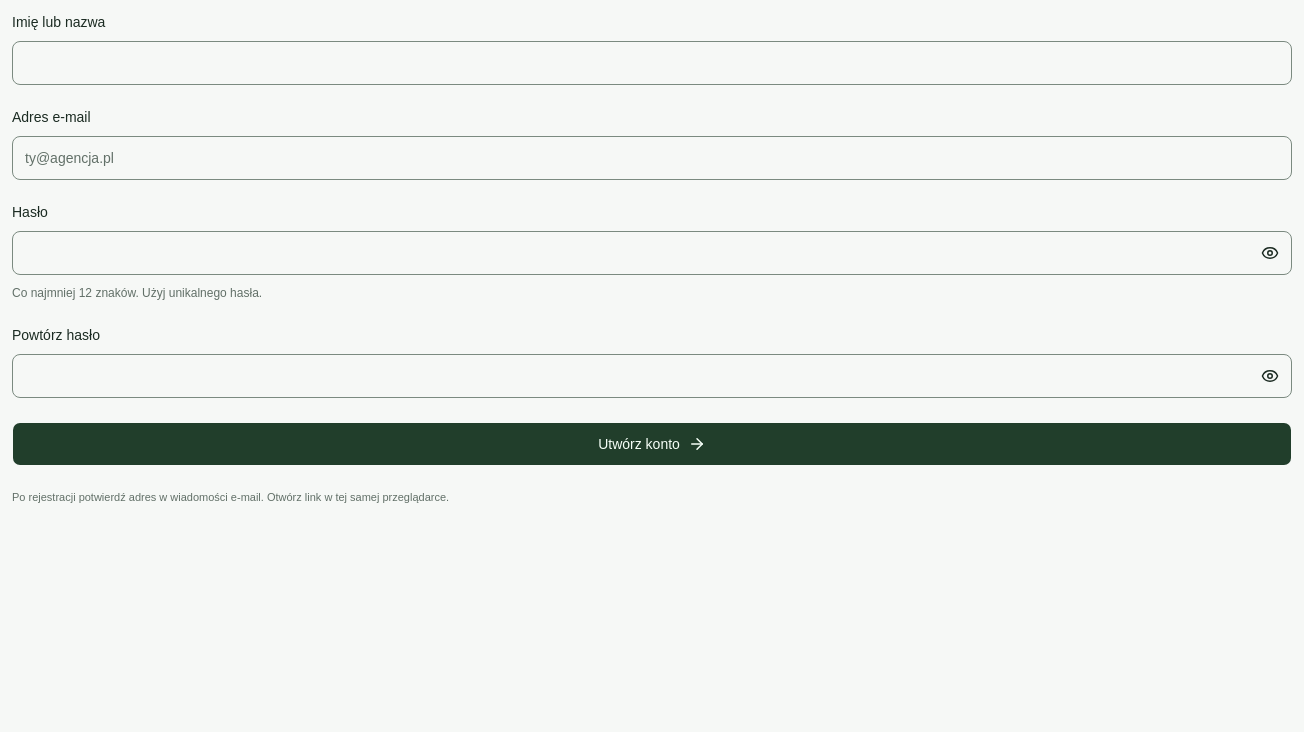
email registration form › hides passwords and toggles the two fields independently
Type " Test Person " into the field labelled "Imię lub nazwa" at [652, 63], box [12,41,1292,85]
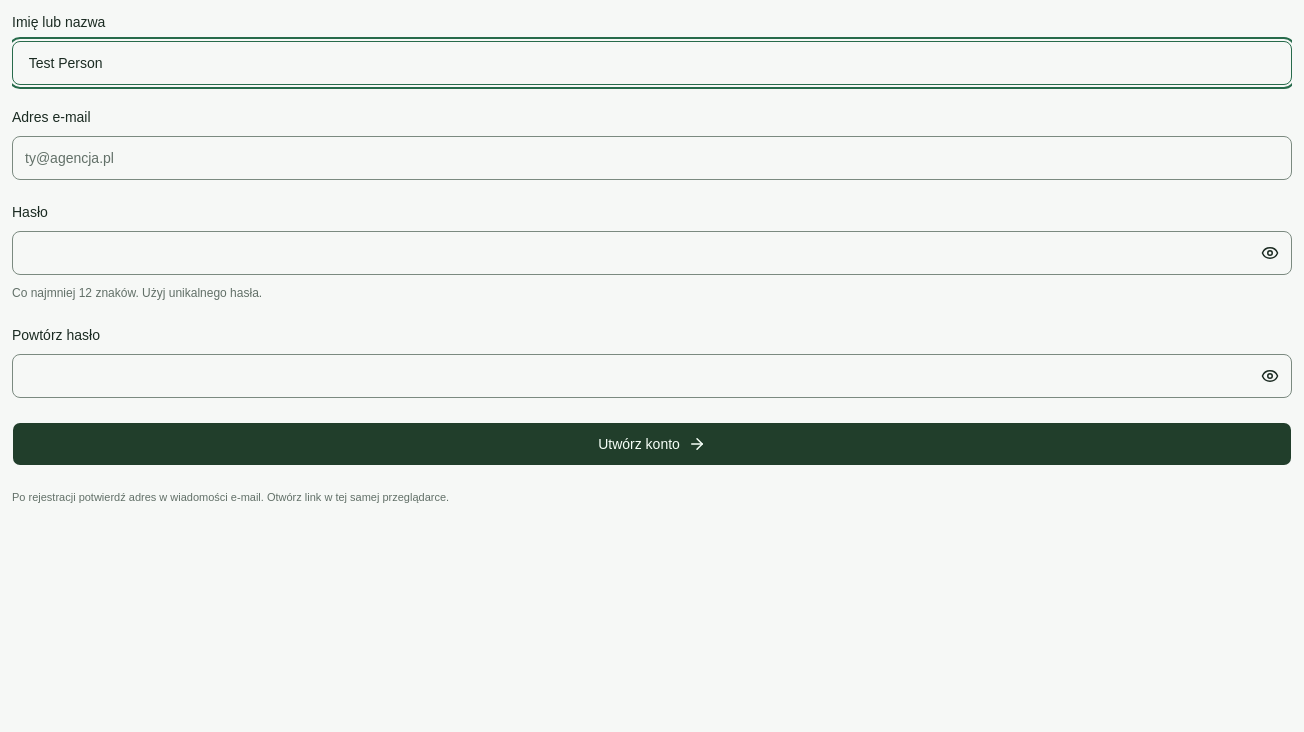
Type " PERSON@Example.test " into the field labelled "Adres e-mail" at [652, 158], box [12,136,1292,180]
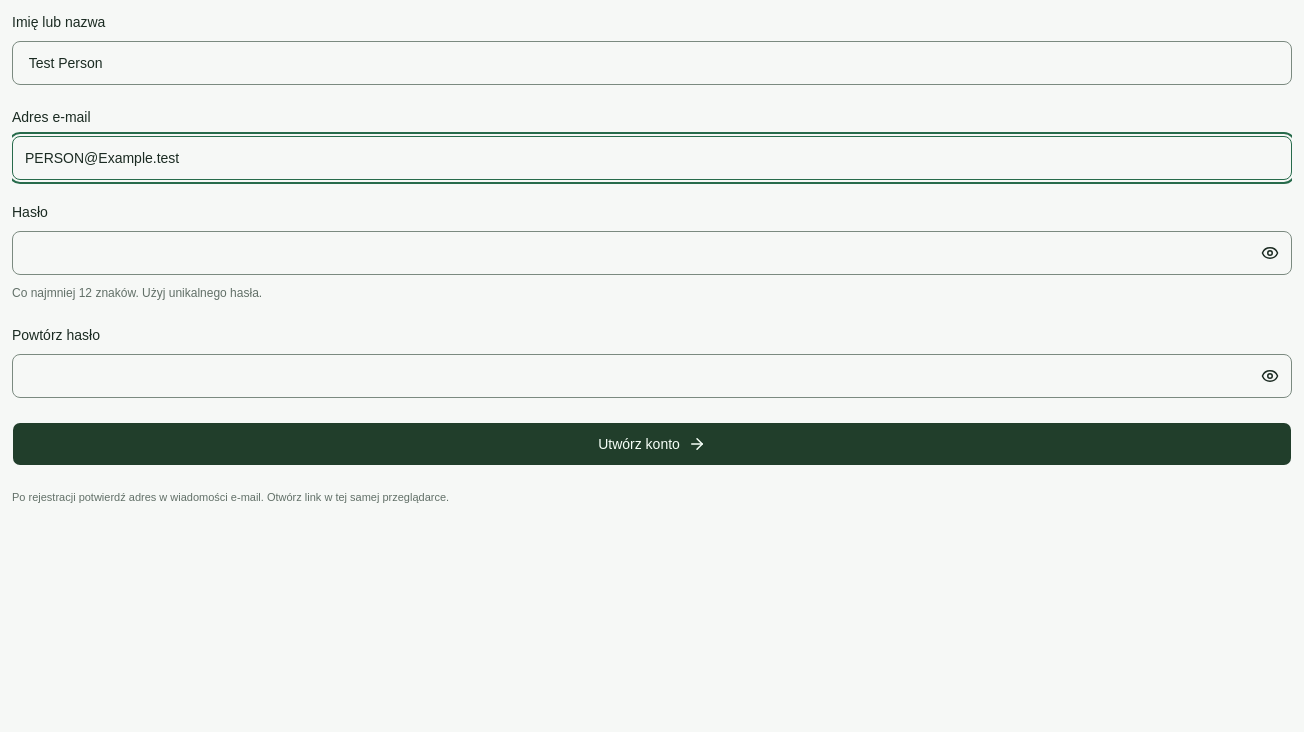
Type "unique-test-only-password" into the password field labelled "Hasło" at [652, 253], box [12,231,1292,275]
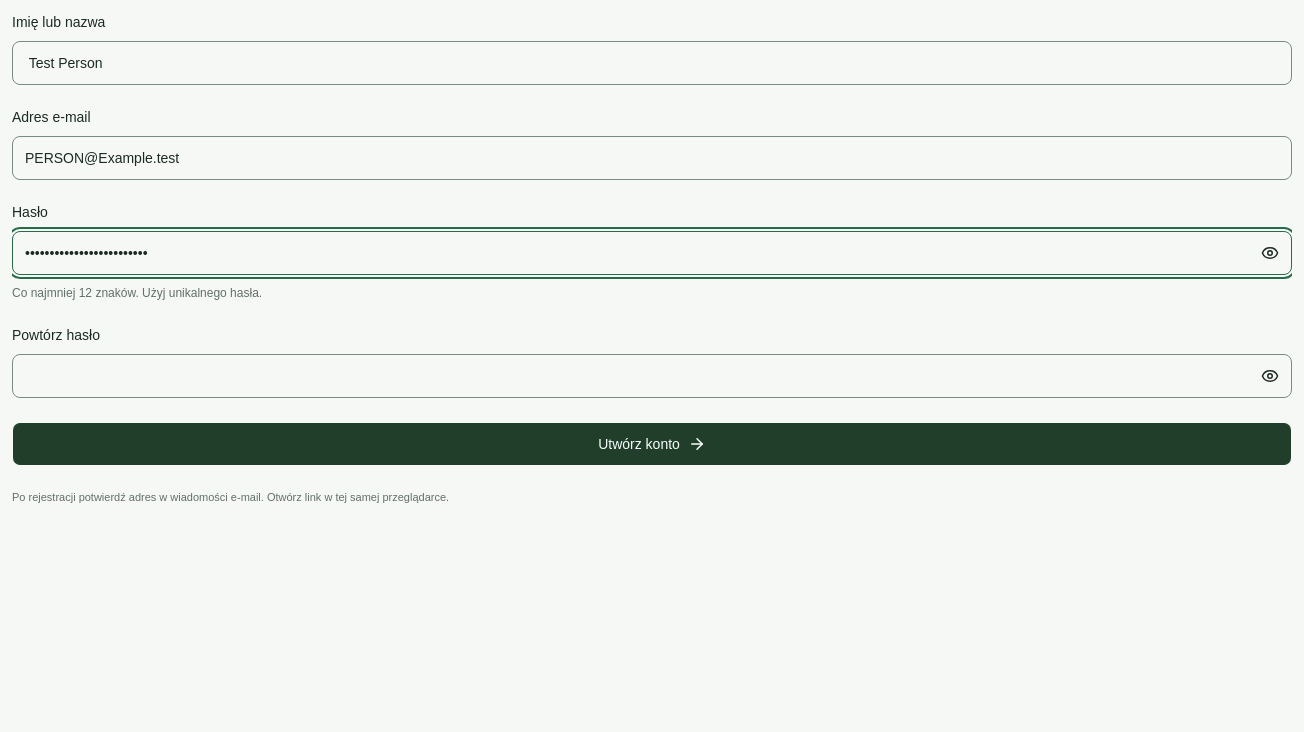
Type "unique-test-only-password" into the password field labelled "Powtórz hasło" at [652, 376], box [12,354,1292,398]
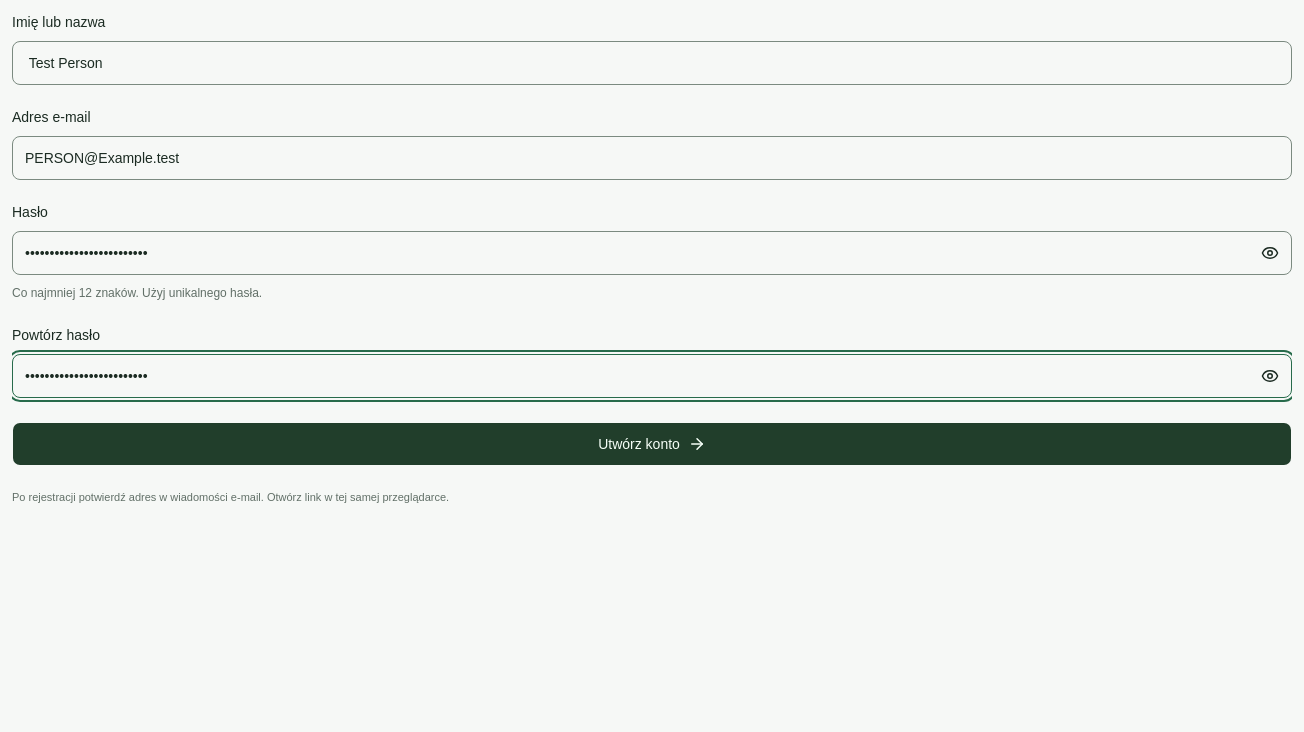
Click the button named "Pokaż powtórzone hasło" at [1270, 376], box [1248,354,1292,398]
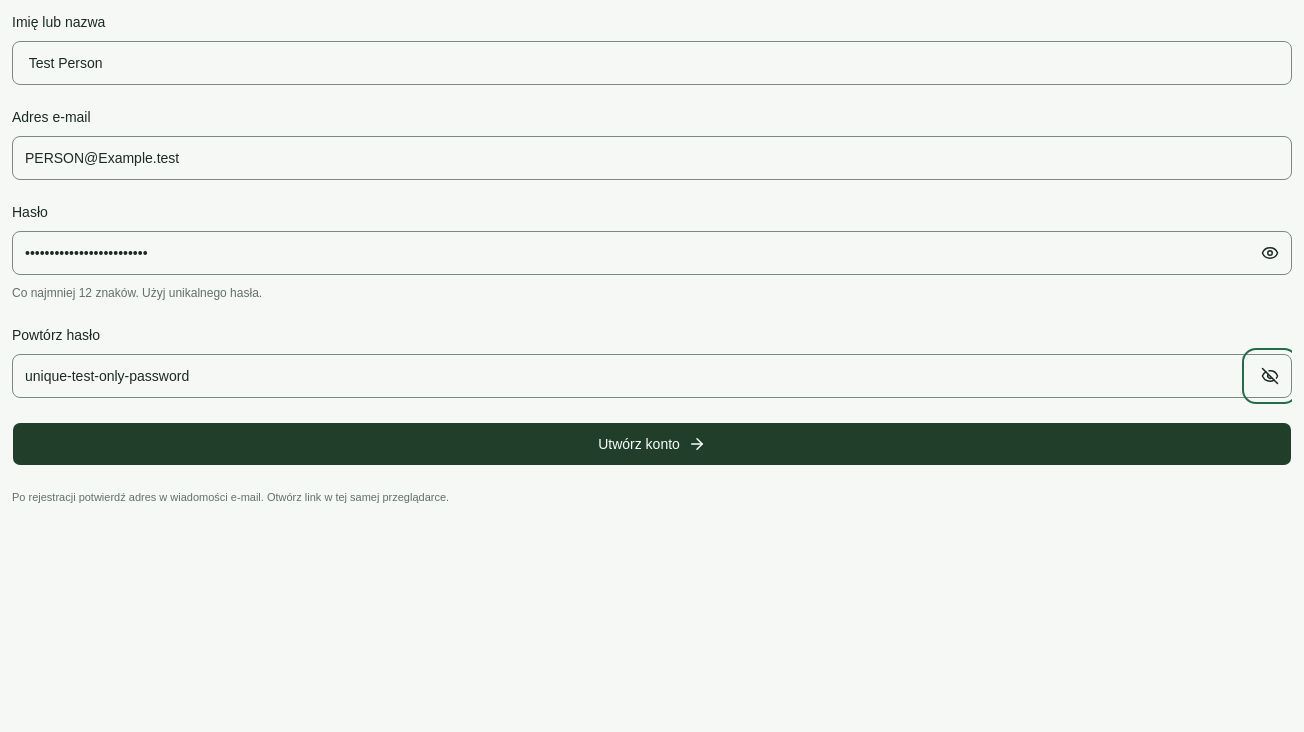
Check: the field labelled "Powtórz hasło" shows its text, box [12,354,1292,398]
